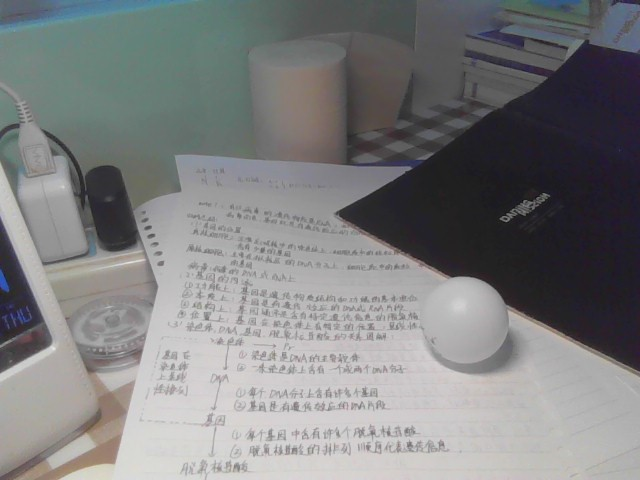ball: (422, 274, 509, 364)
